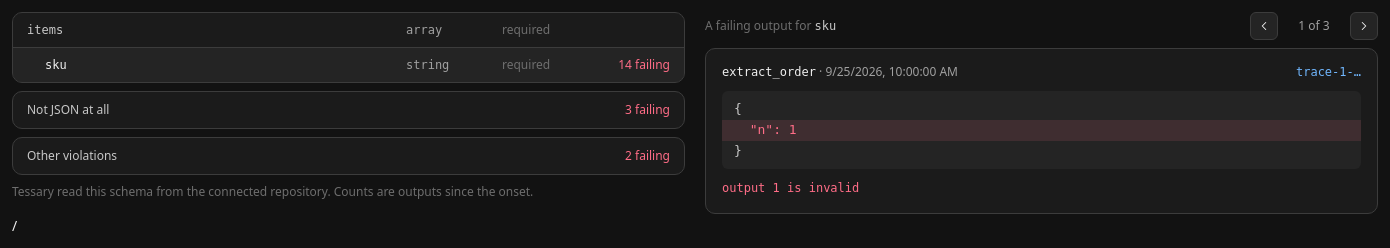
Test case: HowOutputsBroke › steps through every failing output, across the page boundary and back
The image size is (1390, 248).
Expected: the text "output 1 is invalid" is shown, [722,181,859,195]
Expected: the button named "Previous output" is disabled, [1250,12,1278,40]
Click the button named "Next output": (1364, 26) [1350,12,1378,40]
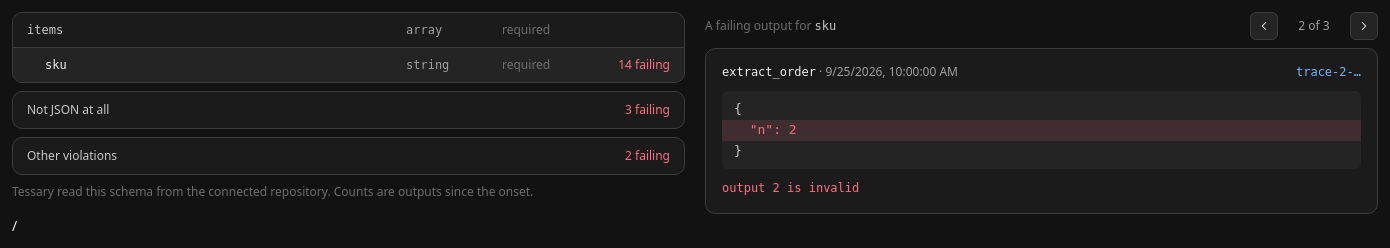
Expected: the text "output 2 is invalid" is shown, [722,181,859,195]
Click the button named "Next output": (1364, 26) [1350,12,1378,40]
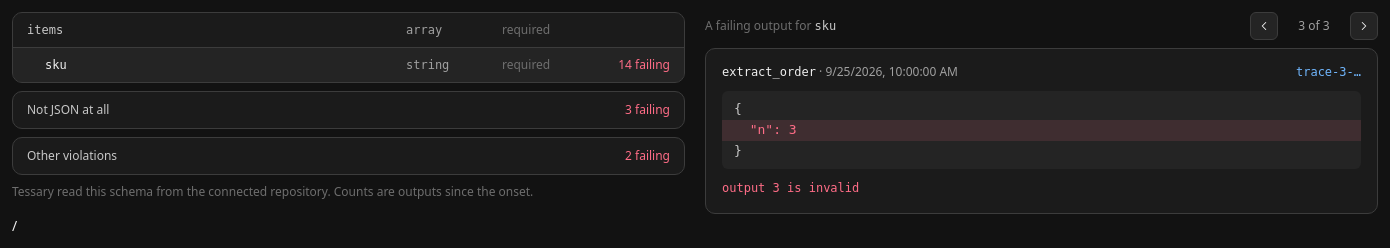
Expected: the text "output 3 is invalid" is shown, [722,181,859,195]
Expected: the text "3 of 3" is shown, [1298,17,1330,34]
Click the button named "Previous output": (1264, 26) [1250,12,1278,40]
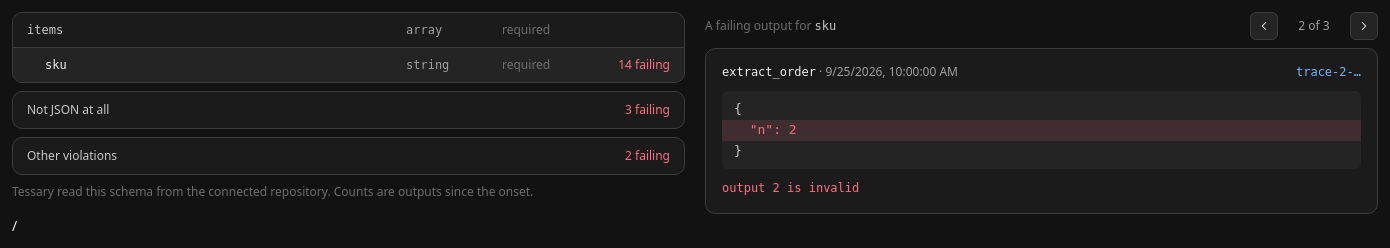
Expected: the text "2 of 3" is shown, [1298,17,1330,34]
